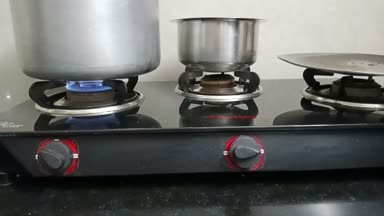flame_gas_off: (179, 67, 268, 174)
flame_gas_on: (23, 73, 147, 176)
